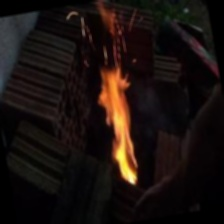fire: (70, 21, 161, 199)
